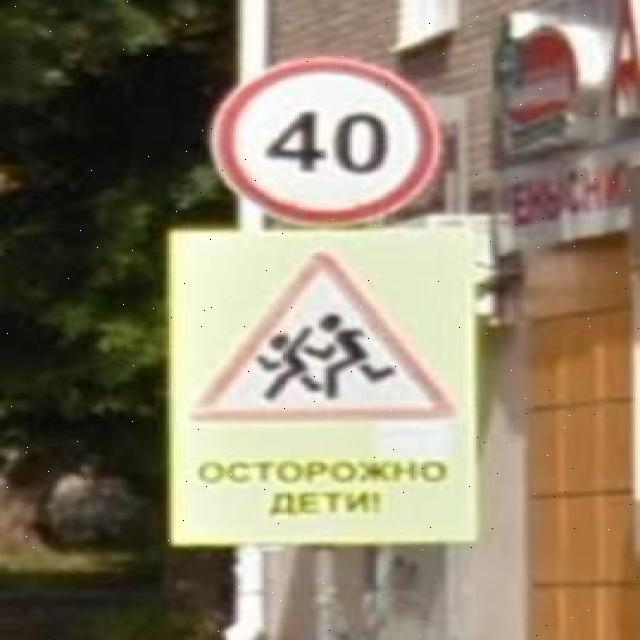speed limit 40: (205, 54, 443, 229)
